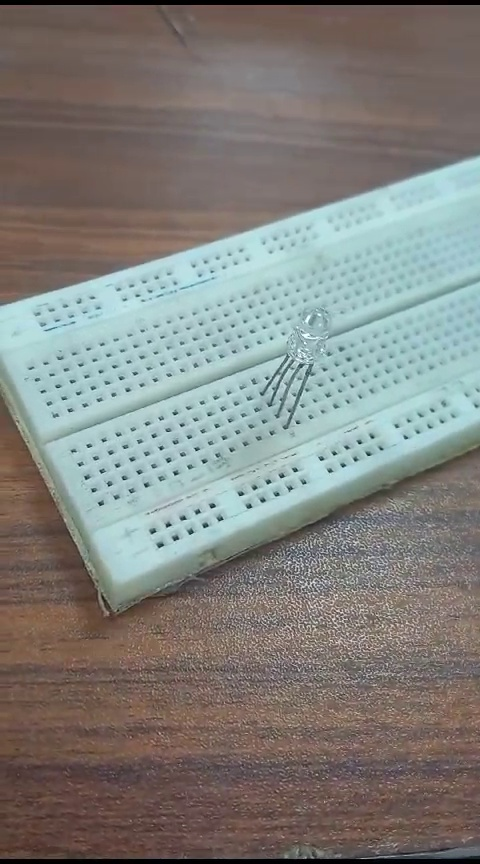LED: (258, 297, 335, 419)
